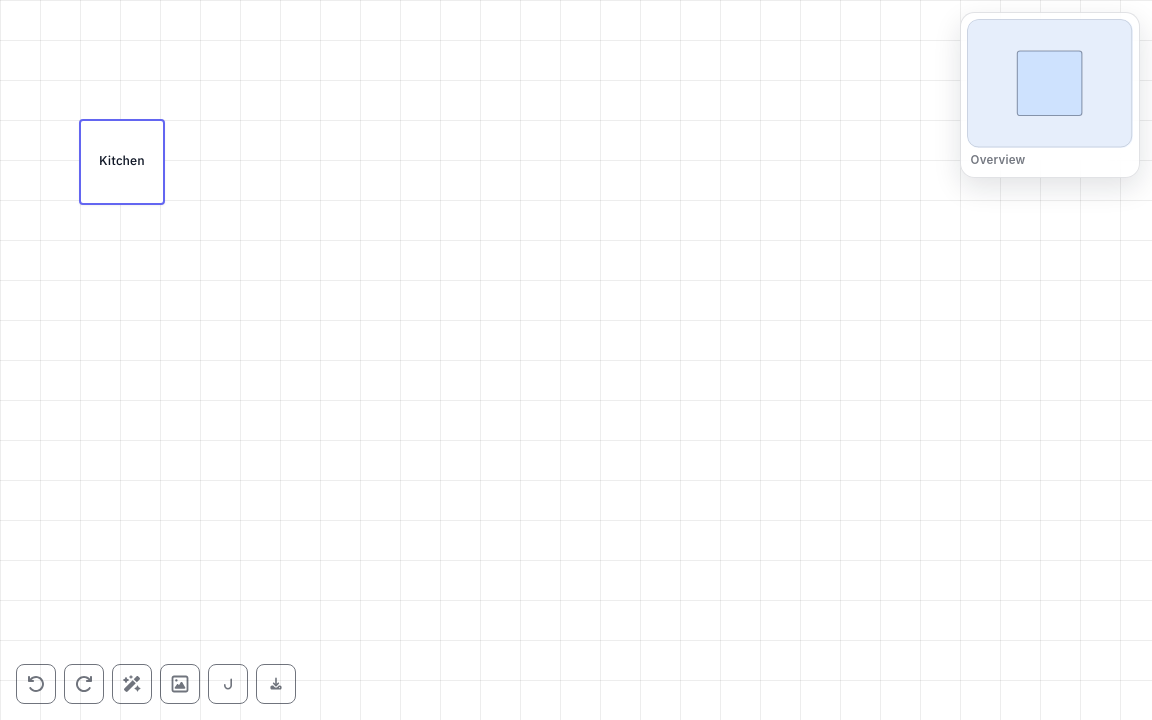
Scenario: MapCanvas › keeps canvas focus after selecting a room so Enter opens the editor
This screenshot has width=1152, height=720.
Press the mouse on the button "Kitchen" at (122, 162), box [80, 120, 164, 204]
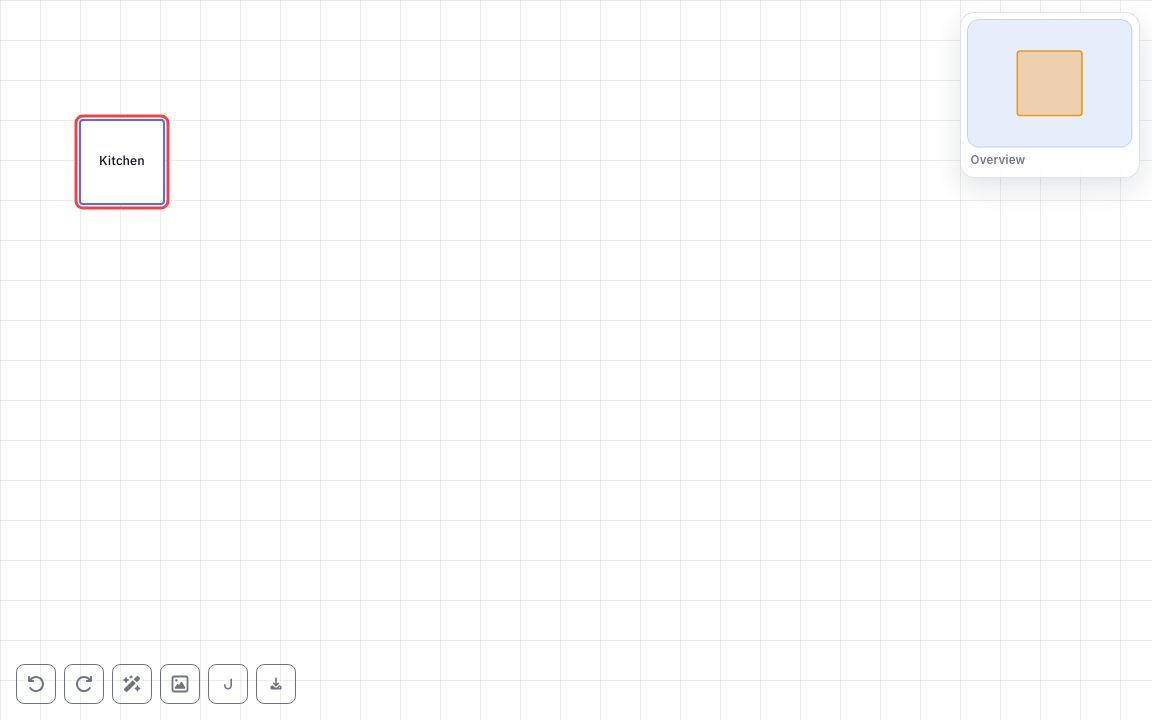
Press Enter in the element named "Map canvas"
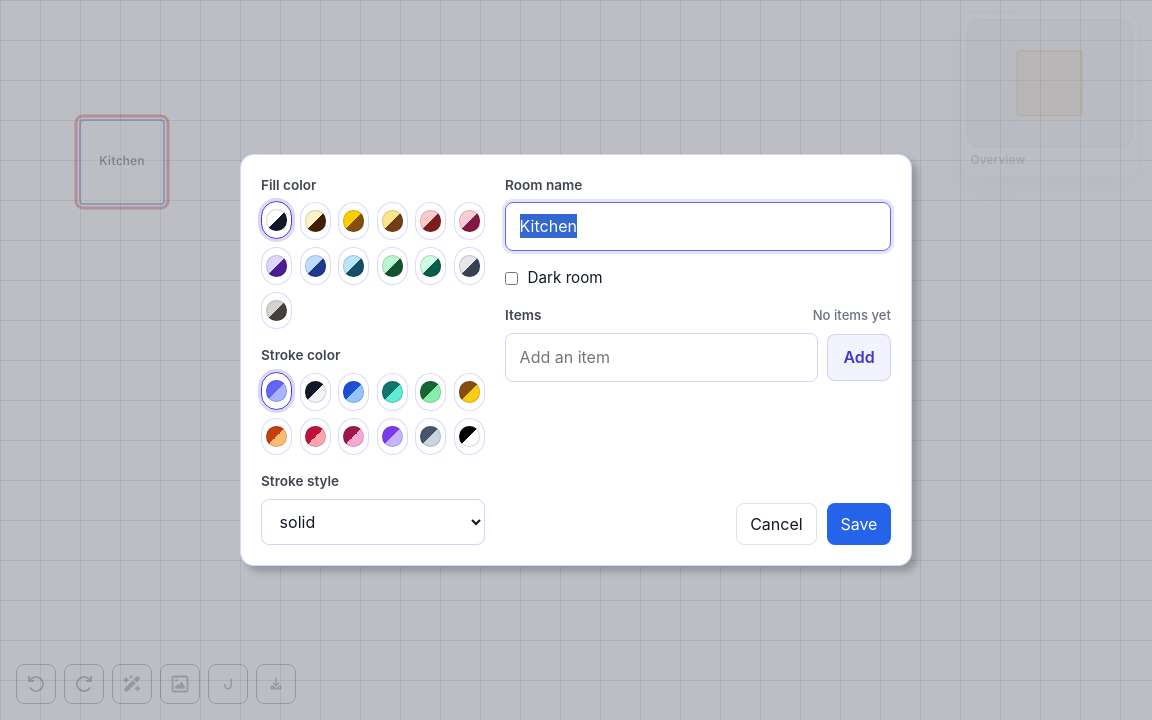
Now the field labelled "Room name" holds "Kitchen", box [505, 202, 891, 251]
